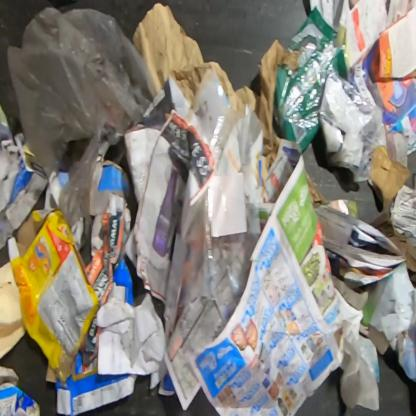cardboard: (7, 206, 100, 383), (0, 102, 49, 250), (55, 354, 139, 416), (369, 215, 415, 291), (98, 160, 138, 230), (369, 145, 412, 207), (112, 258, 150, 306), (0, 382, 41, 415)
soft_plastic: (6, 7, 155, 266), (164, 71, 261, 319), (272, 5, 350, 158), (315, 62, 387, 187)
